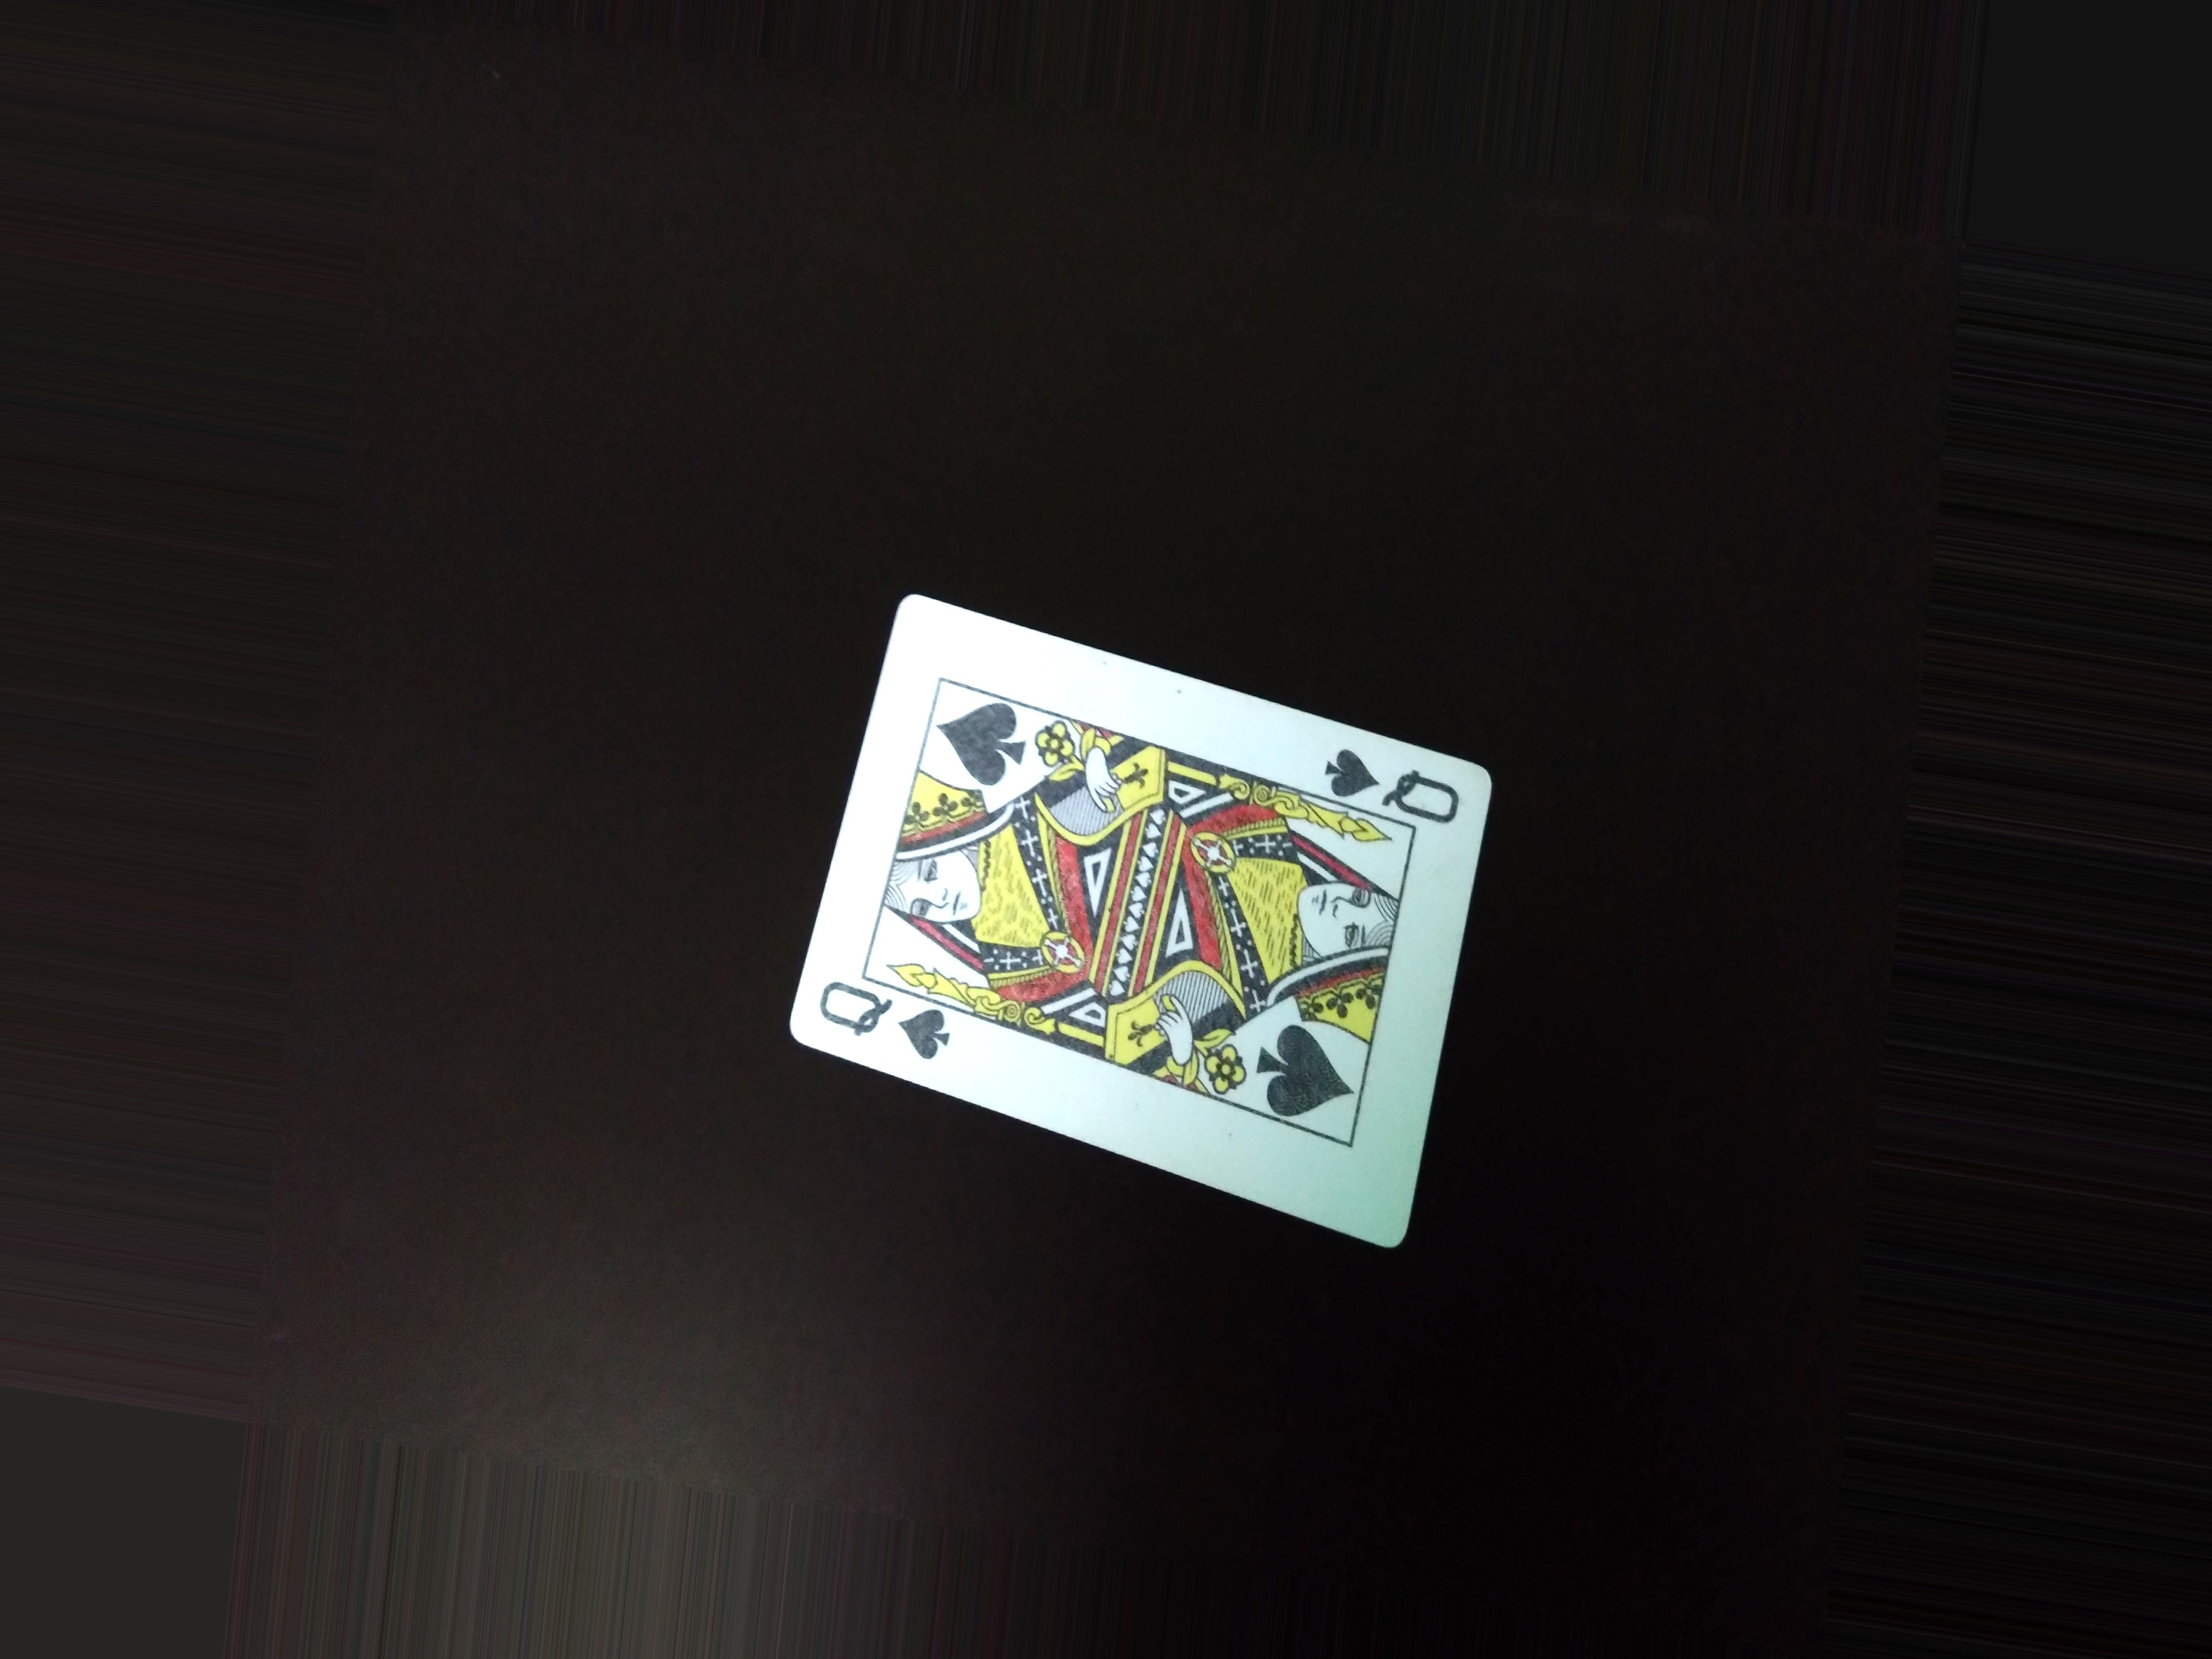QS: (791, 978, 967, 1063)
